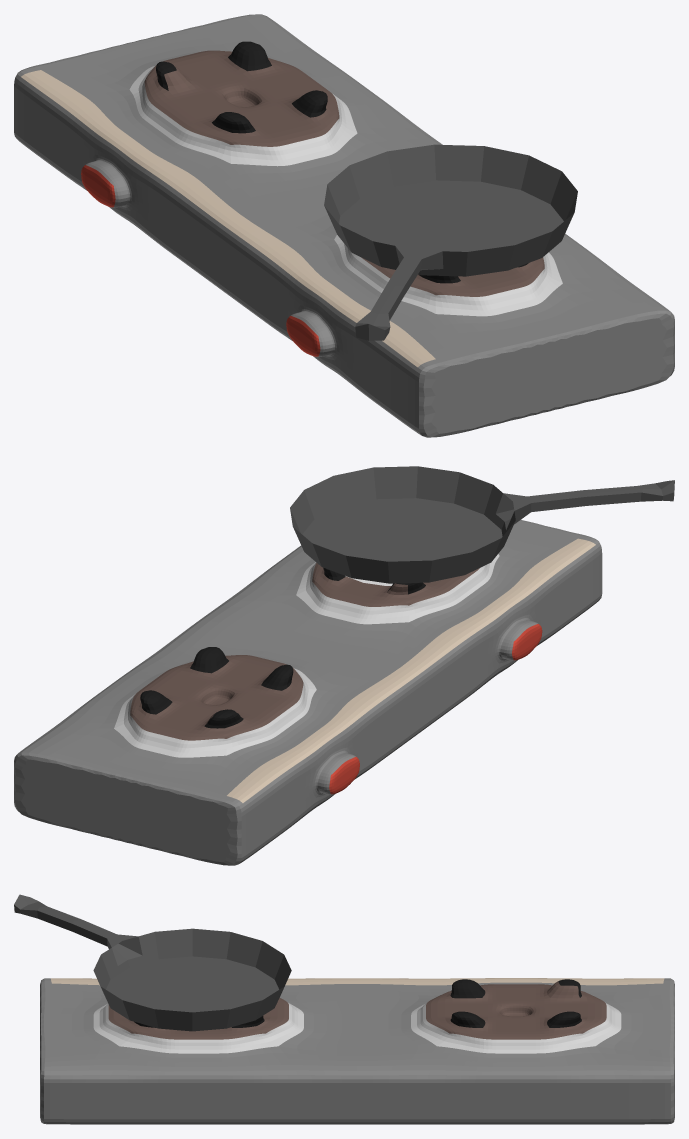
The model's file is Kompor + panci.fbx.
3 views of the same model, one above another, from view 1: azimuth 30°, elevation 25°; view 2: azimuth 150°, elevation 25°; view 3: azimuth 270°, elevation 25° (orthographic). The views are drawn at different scales.
Visible parts, largest first — view 1: Cube, Circle; view 2: Cube, Circle; view 3: Cube, Circle.
Boxes of the visible parts, x1,y1,x2,y2 form: Cube: (14,14,674,437); Circle: (324,144,577,340); Cube: (14,520,602,865); Circle: (290,466,674,583); Cube: (40,978,674,1124); Circle: (14,894,291,1031).
Size of the model in its own units: 482 by 205 by 1083.
